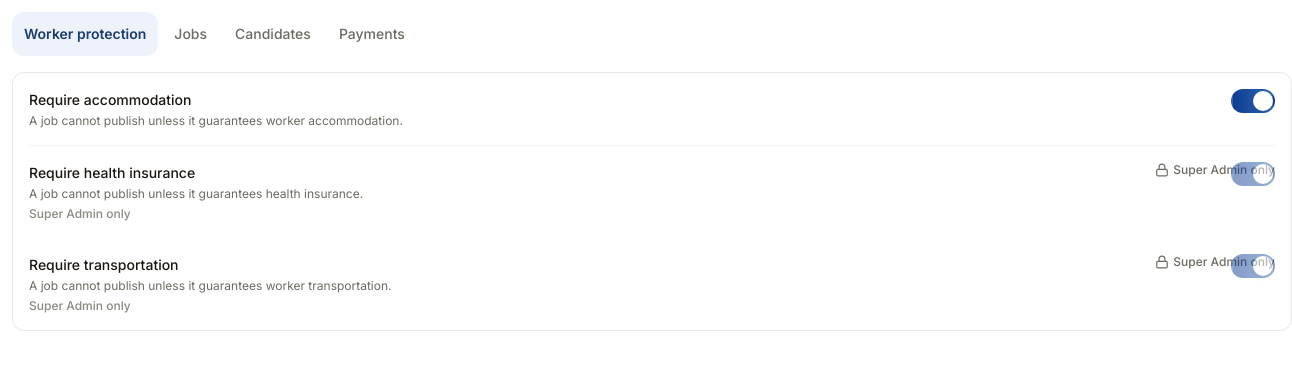
CoreRuleCell — the worker-protection friction › a forced core-rule 403 reverts the row with a clear message, never a crash
The width and height of the screenshot is (1292, 392).
Click the switch named "require accommodation" at (1253, 101), box [1231,89,1275,113]
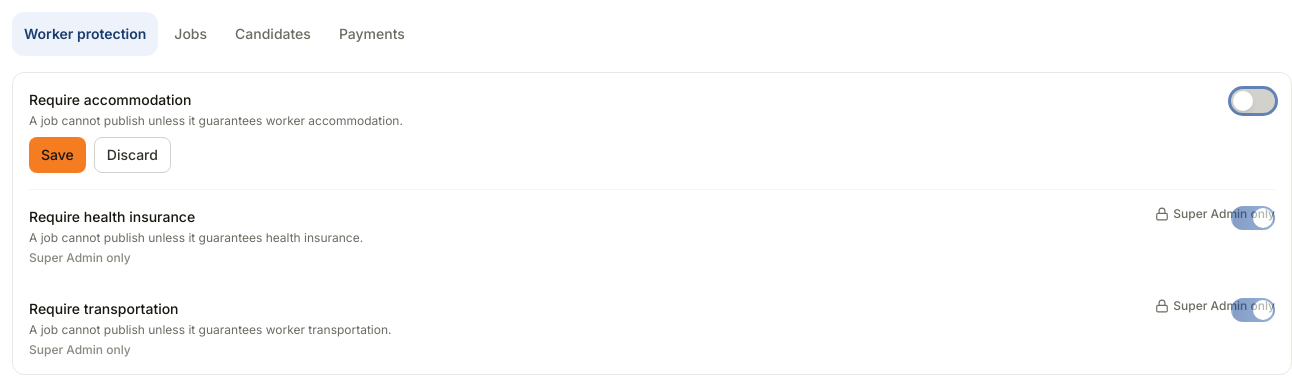
Click the button "Save" at (57, 155), box [29,137,86,173]
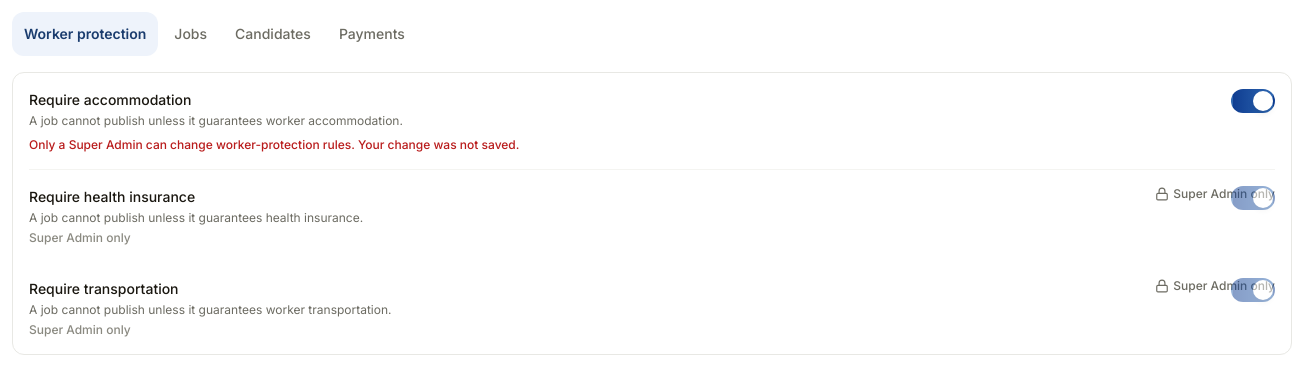
Expected: the switch named "require accommodation" is checked, [1231,89,1275,113]
Expected: the text "Only a Super Admin can change worker-protection" is shown, [29,137,519,152]
